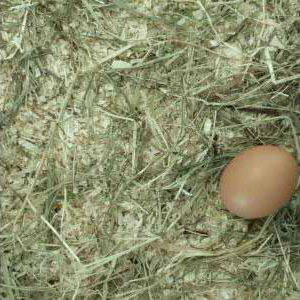egg: (218, 146, 300, 219)
